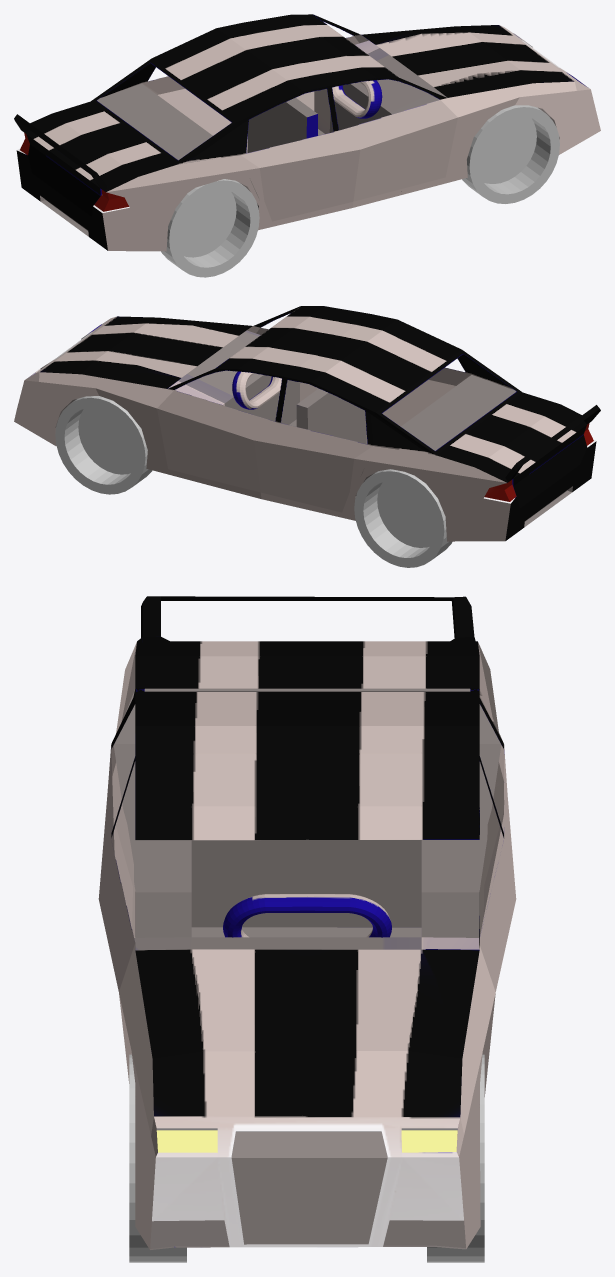
File: Car.fbx
3 views of the same model, one above another, from view 1: azimuth 30°, elevation 25°; view 2: azimuth 150°, elevation 25°; view 3: azimuth 270°, elevation 25° (orthographic). The views are drawn at different scales.
Visible parts, largest first — view 1: Plane, Circle.003, Circle; view 2: Plane, Circle.001, Circle.002; view 3: Plane, Circle.003, Circle.002.
Boxes of the visible parts, x1,y1,x2,y2 form: Plane: [14, 14, 600, 251]; Circle.003: [462, 105, 559, 203]; Circle: [161, 179, 259, 277]; Plane: [14, 306, 600, 541]; Circle.001: [354, 469, 452, 567]; Circle.002: [55, 396, 152, 494]; Plane: [98, 596, 516, 1249]; Circle.003: [129, 1054, 186, 1262]; Circle.002: [427, 1054, 484, 1262].
Bounding box in the file's own units: 678 × 206 × 242.
